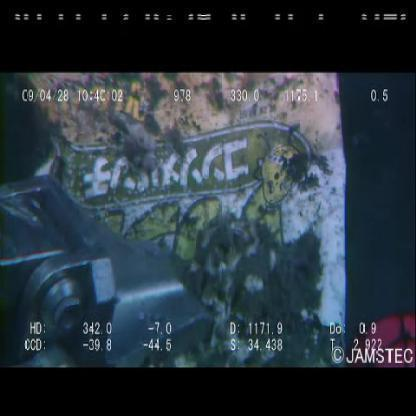Rác: (12, 72, 348, 370)
